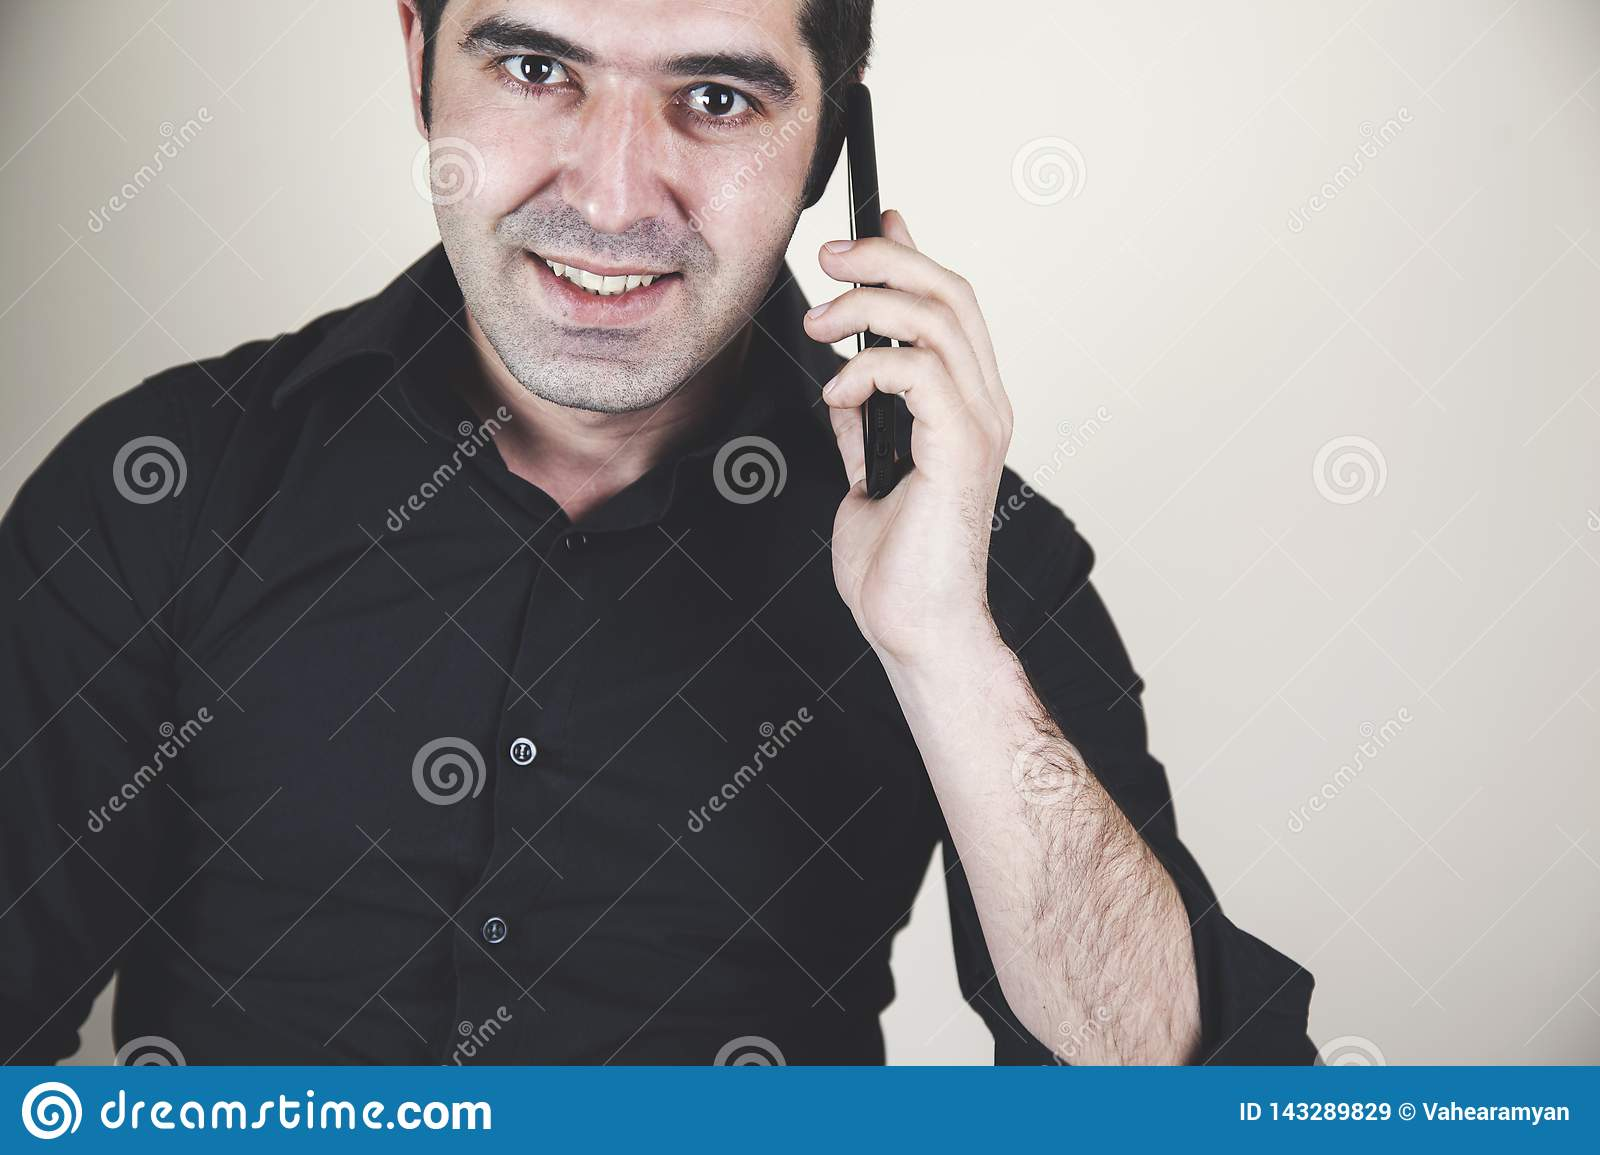phone: (819, 68, 912, 510)
talk: (451, 10, 1009, 658)
